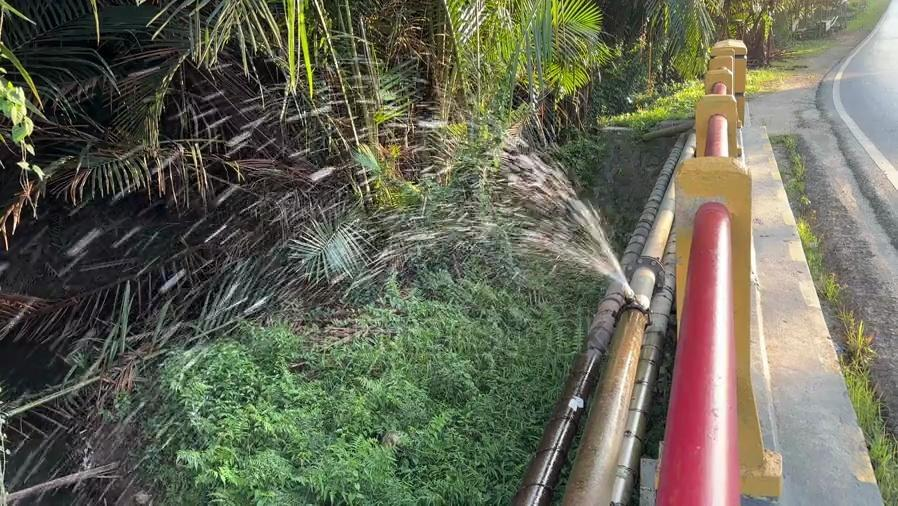pipe burst: (343, 131, 639, 306)
